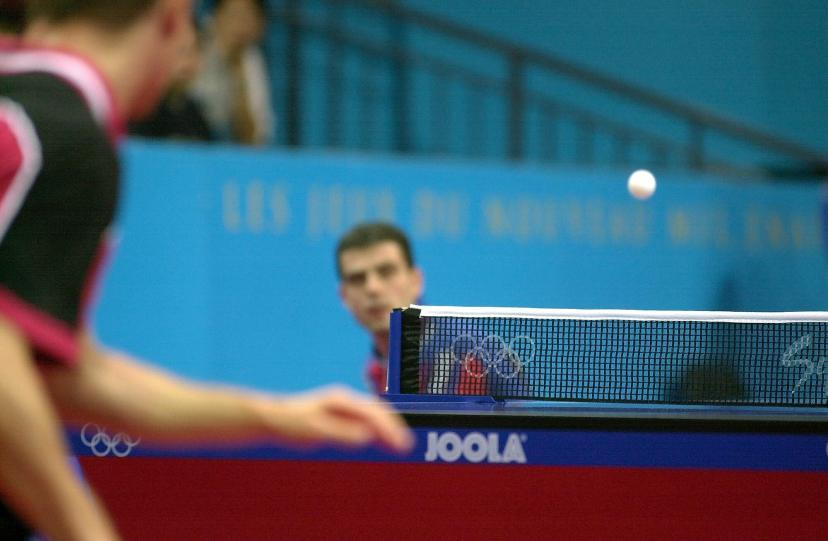ball_pingpong: (628, 167, 657, 200)
